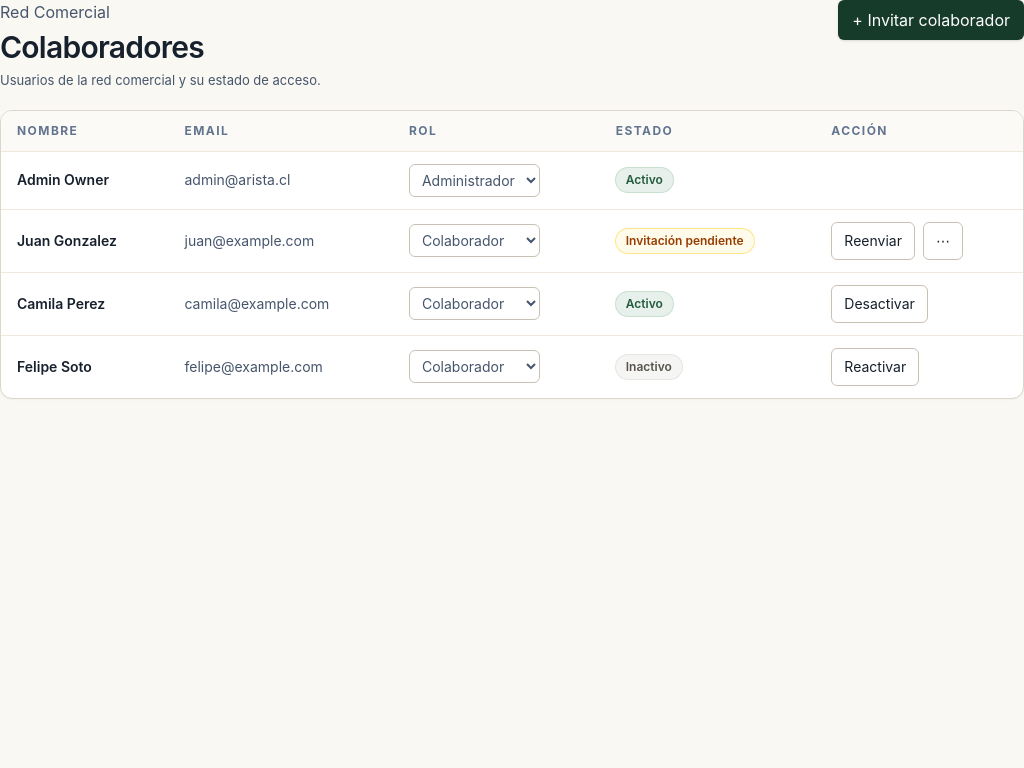
Test: CollaboratorsPage › elimina invitacion pendiente con confirmacion
Click the heading "⋯" at (943, 241), box [923,222,963,260]
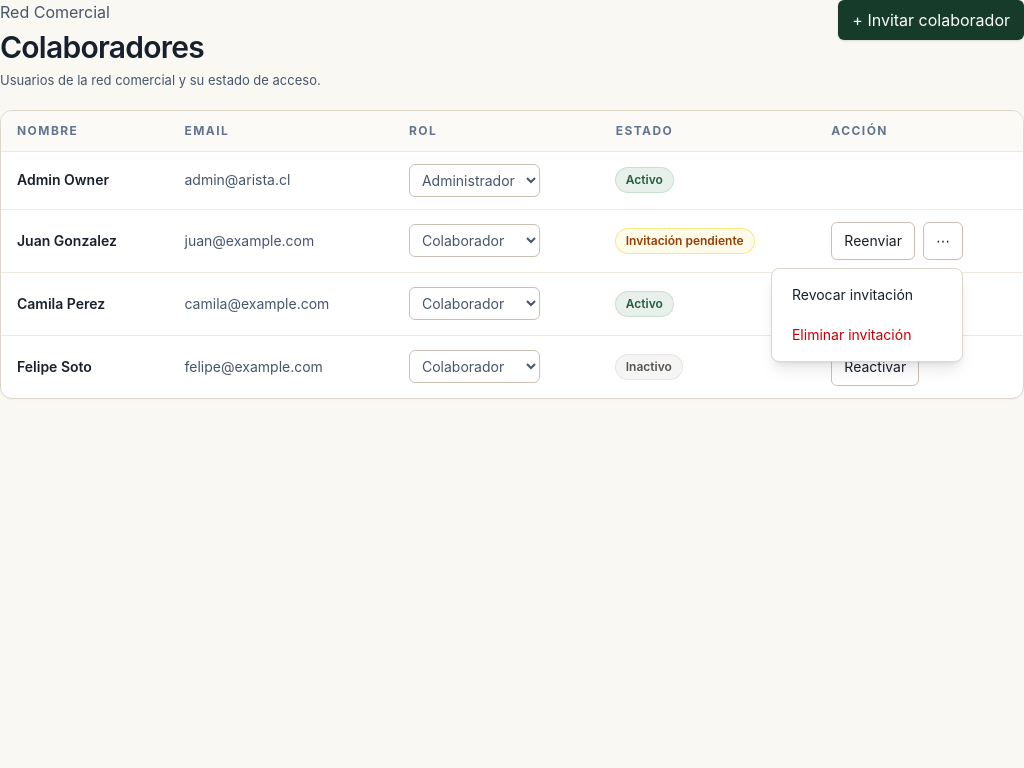
Click the button "Eliminar invitación" at (867, 335), box [780,317,954,353]
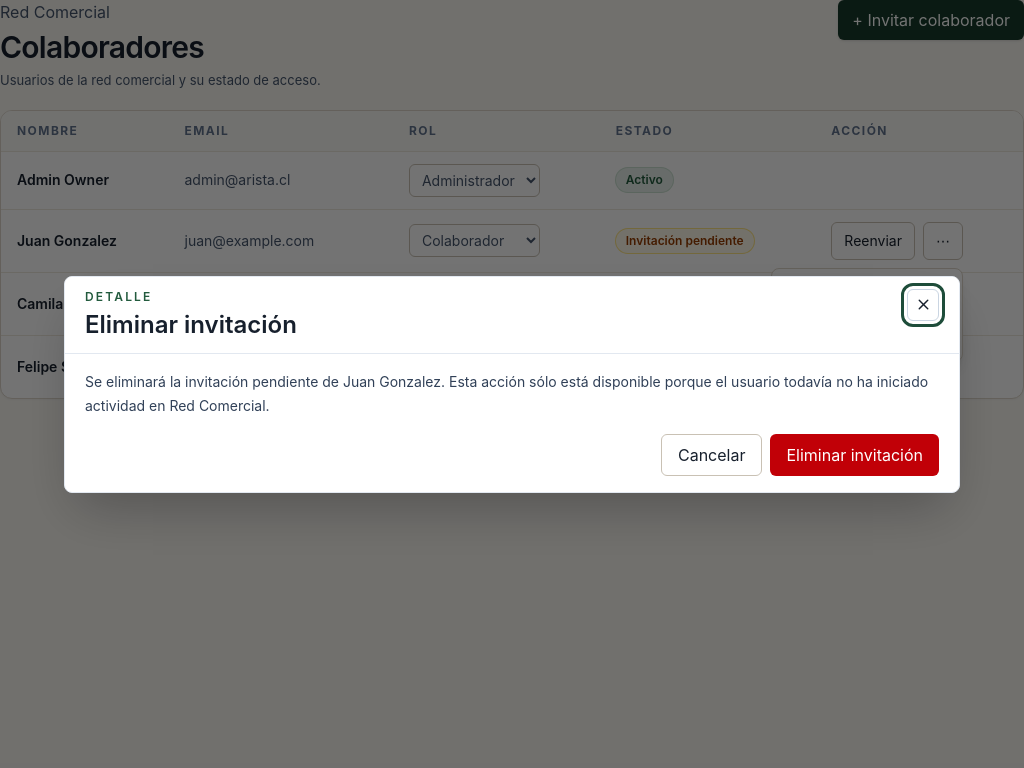
Check: the heading "Eliminar invitación" is shown, box [85,308,297,340]
Click the button "Eliminar invitación" at (855, 454), box [770,434,939,476]
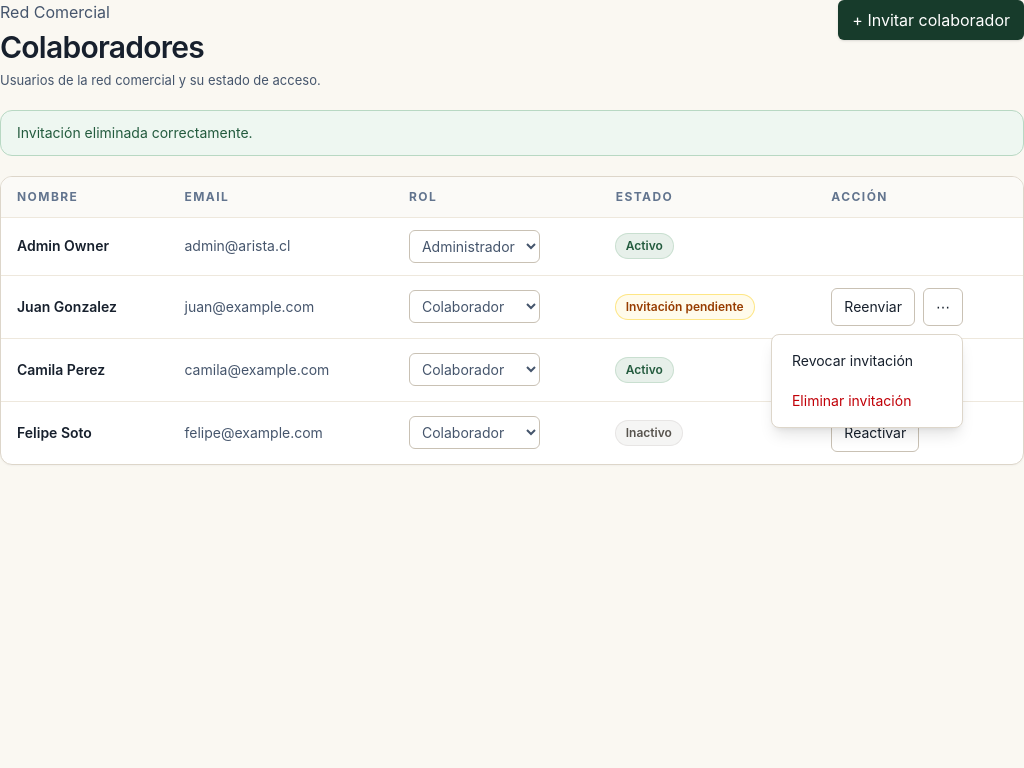
Check: the text "Invitación eliminada correctamente." is shown, box [0,110,1023,156]
